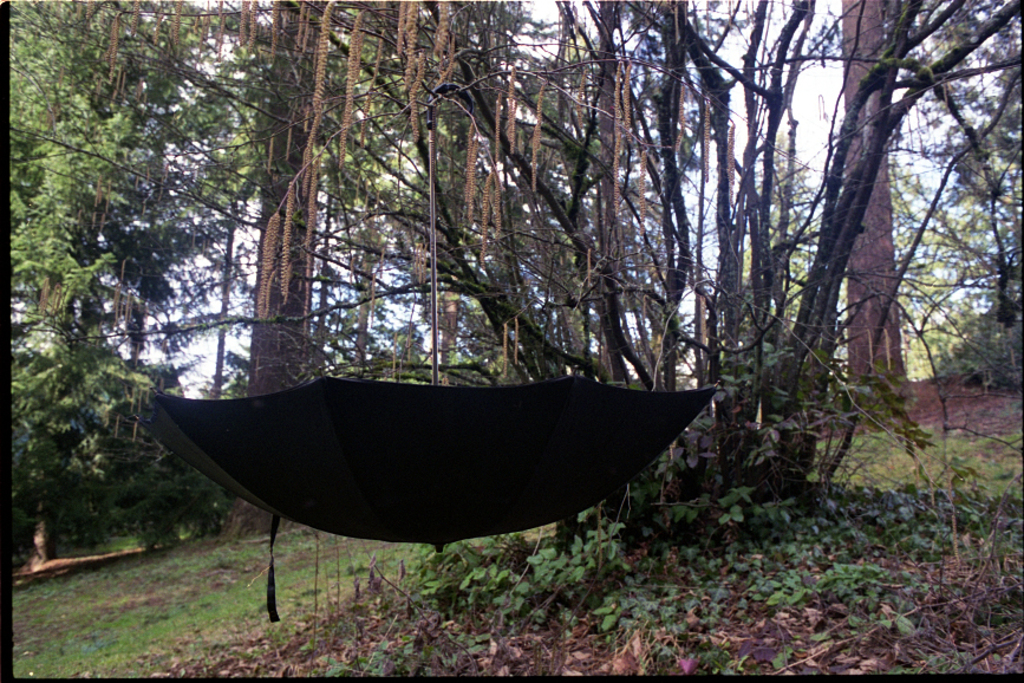Tree: (8, 0, 1023, 553)
